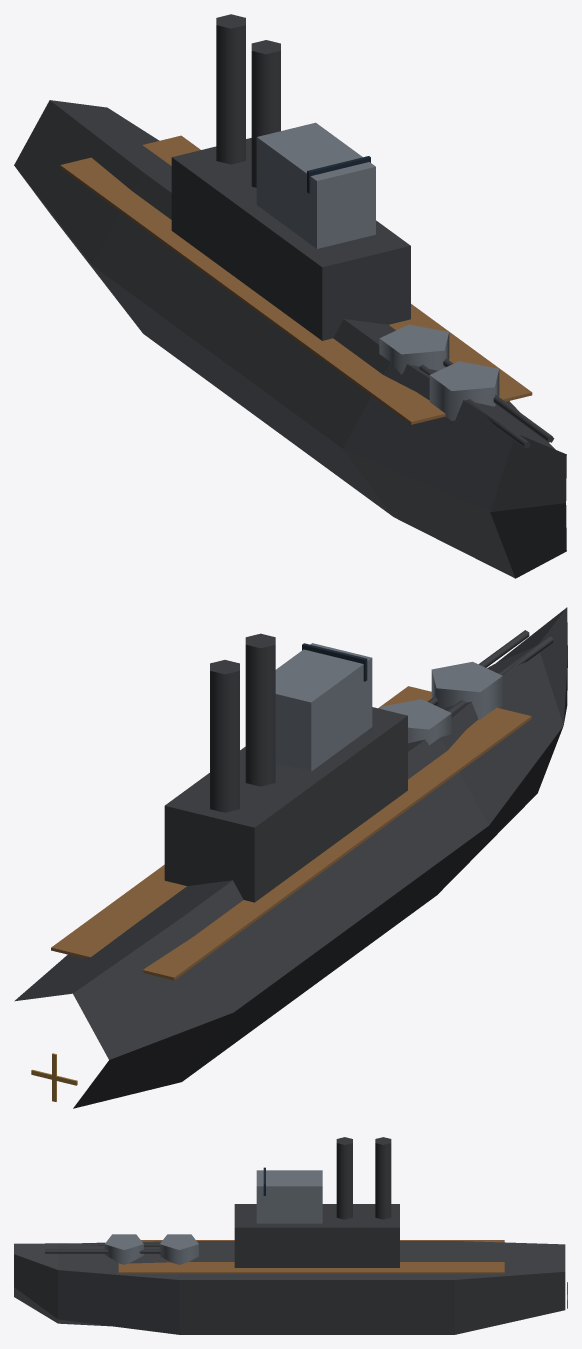
File: veh_naval_warship_a05_lod1.glb
3 views of the same model, one above another, from view 1: azimuth 30°, elevation 25°; view 2: azimuth 150°, elevation 25°; view 3: azimuth 270°, elevation 25° (orthographic). The views are drawn at different scales.
Visible parts, largest first — view 1: body, turret_0, turret_1; view 2: body, turret_0, turret_1; view 3: body, turret_0, turret_1.
Part boxes in pixels (bbox=[...]): body: bbox=[14, 14, 566, 578]; turret_0: bbox=[429, 361, 554, 448]; turret_1: bbox=[379, 324, 501, 405]; body: bbox=[14, 607, 567, 1108]; turret_0: bbox=[431, 630, 553, 719]; turret_1: bbox=[380, 695, 466, 745]; body: bbox=[14, 1137, 565, 1334]; turret_0: bbox=[45, 1234, 143, 1264]; turret_1: bbox=[100, 1234, 198, 1264].
Size of the model in its own units: 3.91 by 9.87 by 25.42.
